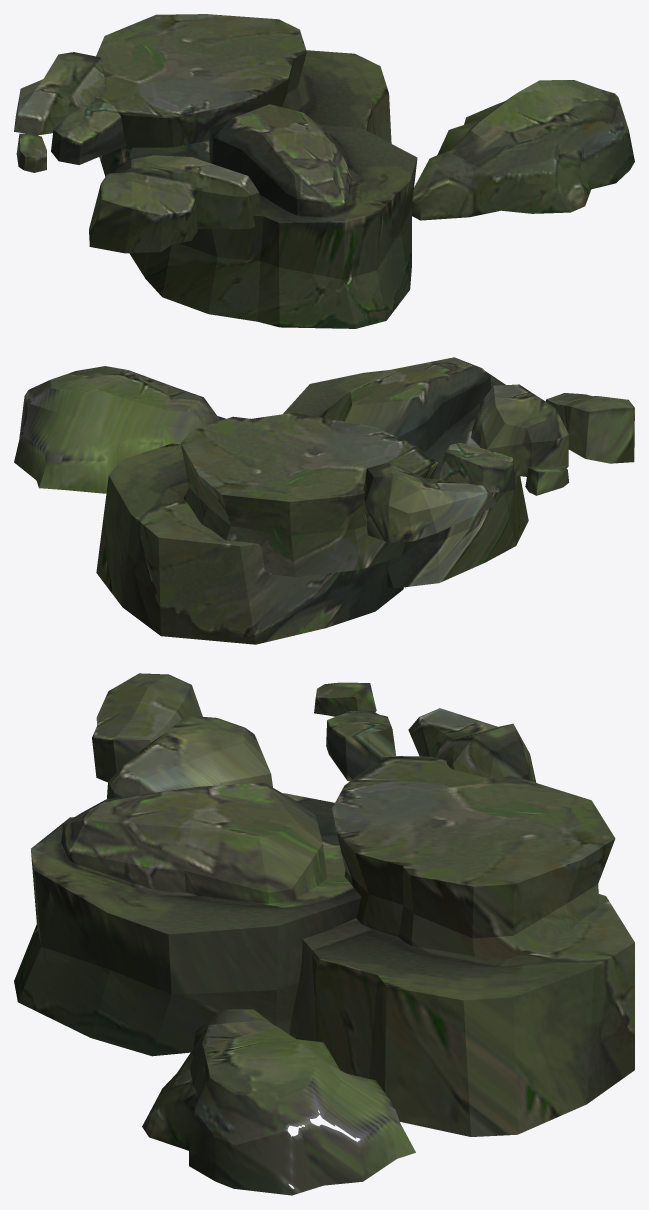
The model's file is 2_Loading_SuiShi_01_01.FBX.
3 views of the same model, one above another, from view 1: azimuth 30°, elevation 25°; view 2: azimuth 150°, elevation 25°; view 3: azimuth 270°, elevation 25° (orthographic). The views are drawn at different scales.
Parts seen in each view (by area): view 1: 2_Loading_SuiShi_01_01, 2_Loading_SuiShi_01_02, 2_Loading_SuiShi_01_03, 2_Loading_SuiShi_01_04, 2_Loading_SuiShi_01_05; view 2: 2_Loading_SuiShi_01_01, 2_Loading_SuiShi_01_02, 2_Loading_SuiShi_01_03, 2_Loading_SuiShi_01_04, 2_Loading_SuiShi_01_05; view 3: 2_Loading_SuiShi_01_01, 2_Loading_SuiShi_01_02, 2_Loading_SuiShi_01_03, 2_Loading_SuiShi_01_04, 2_Loading_SuiShi_01_05.
Part boxes in pixels (x1=…): 2_Loading_SuiShi_01_01: x1=89, y1=14, x2=417, y2=328; 2_Loading_SuiShi_01_02: x1=411, y1=80, x2=634, y2=220; 2_Loading_SuiShi_01_03: x1=14, y1=52, x2=106, y2=135; 2_Loading_SuiShi_01_04: x1=51, y1=99, x2=125, y2=164; 2_Loading_SuiShi_01_05: x1=16, y1=133, x2=46, y2=172; 2_Loading_SuiShi_01_01: x1=96, y1=357, x2=634, y2=644; 2_Loading_SuiShi_01_02: x1=14, y1=366, x2=225, y2=493; 2_Loading_SuiShi_01_03: x1=362, y1=462, x2=496, y2=542; 2_Loading_SuiShi_01_04: x1=439, y1=442, x2=514, y2=492; 2_Loading_SuiShi_01_05: x1=525, y1=464, x2=569, y2=495; 2_Loading_SuiShi_01_01: x1=14, y1=673, x2=634, y2=1136; 2_Loading_SuiShi_01_02: x1=142, y1=1009, x2=415, y2=1195; 2_Loading_SuiShi_01_03: x1=408, y1=708, x2=536, y2=782; 2_Loading_SuiShi_01_04: x1=326, y1=710, x2=395, y2=781; 2_Loading_SuiShi_01_05: x1=314, y1=682, x2=376, y2=716.
Bounding box in the file's own units: 467 × 137 × 338.
